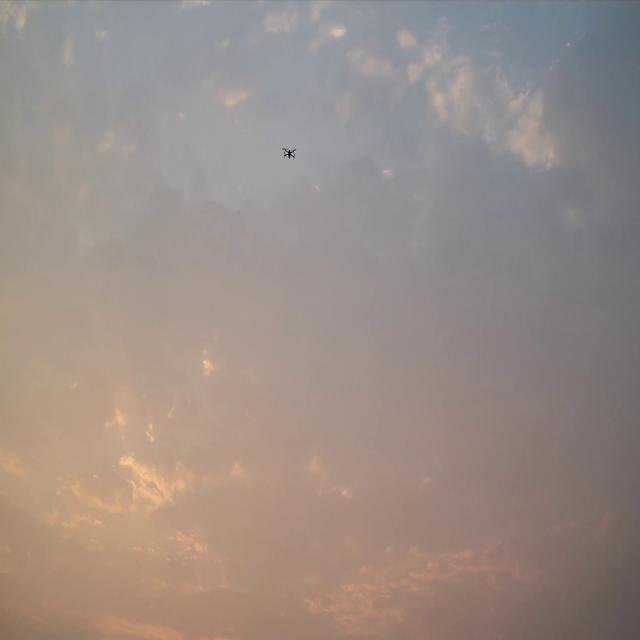UAV: (282, 148, 296, 160)
